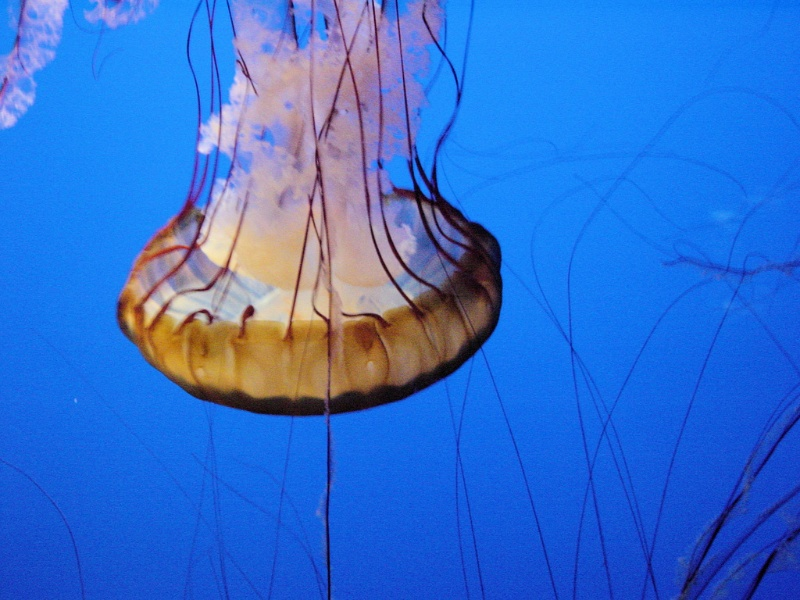Jellyfish: (113, 0, 502, 416)
